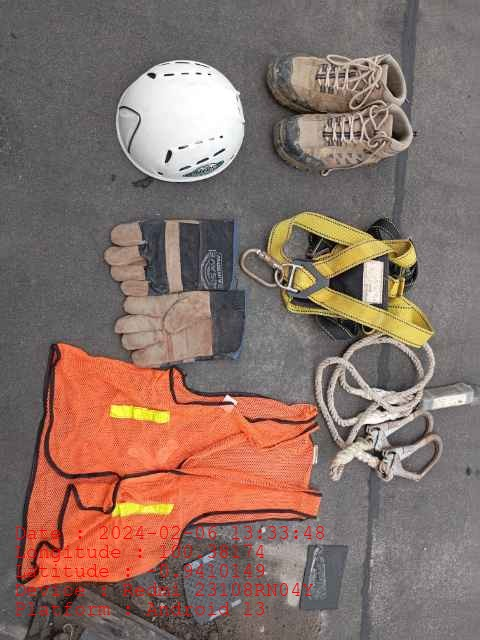HELM: (115, 59, 245, 182)
SARUNG_TANGAN: (105, 217, 242, 293), (111, 290, 246, 362)
SEPATU: (266, 52, 410, 171)
TAMBANG_SLING: (315, 331, 479, 483)
